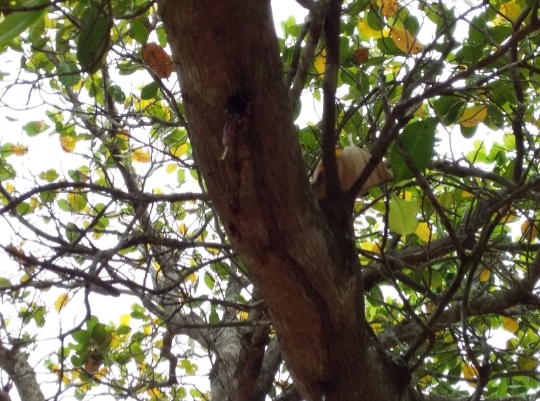Apate terebrans: (214, 91, 269, 129)
